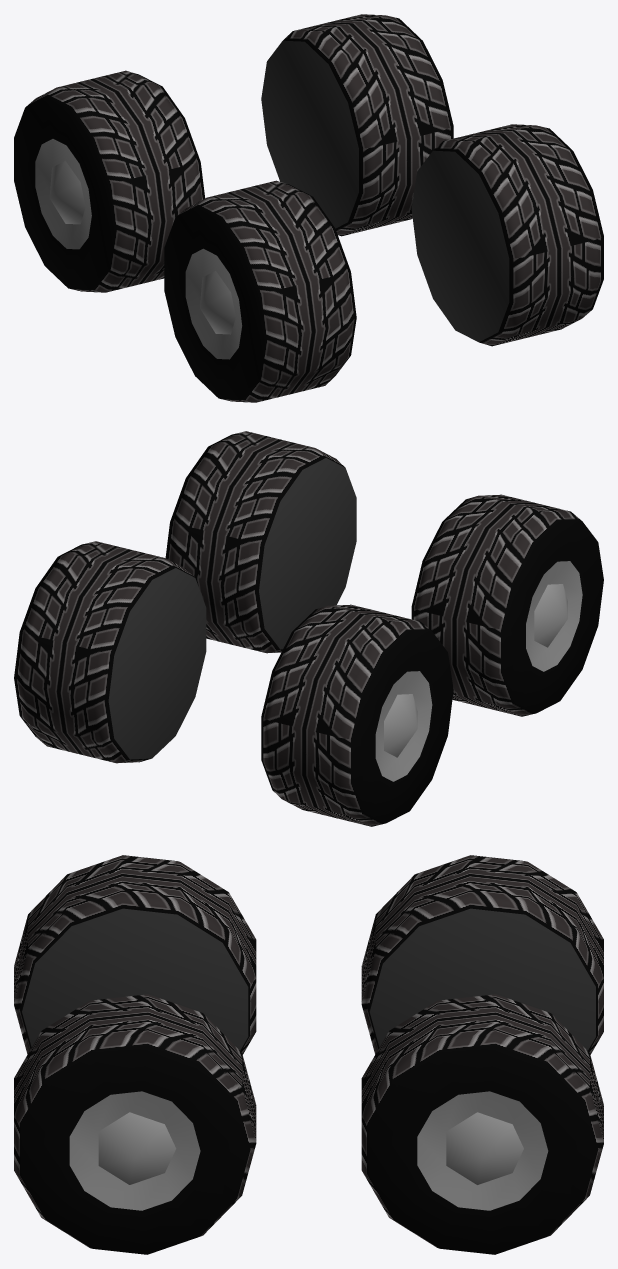
File: Wheels_mid_wide.fbx
3 views of the same model, one above another, from view 1: azimuth 30°, elevation 25°; view 2: azimuth 150°, elevation 25°; view 3: azimuth 270°, elevation 25° (orthographic). The views are drawn at different scales.
Visible parts, largest first — view 1: wheel_mid_wide_rightfront, wheel_mid_wide_leftfront, wheel_mid_wide_rightback, wheel_mid_wide_leftback; view 2: wheel_mid_wide_leftback, wheel_mid_wide_rightback, wheel_mid_wide_rightfront, wheel_mid_wide_leftfront; view 3: wheel_mid_wide_leftback, wheel_mid_wide_leftfront, wheel_mid_wide_rightfront, wheel_mid_wide_rightback.
Part boxes in pixels (x1,y1,x2,y2): wheel_mid_wide_rightfront: (164, 180, 356, 402); wheel_mid_wide_leftfront: (411, 124, 603, 346); wheel_mid_wide_rightback: (14, 70, 205, 292); wheel_mid_wide_leftback: (261, 14, 453, 236); wheel_mid_wide_leftback: (14, 541, 206, 763); wheel_mid_wide_rightback: (261, 604, 453, 826); wheel_mid_wide_rightfront: (411, 494, 603, 716); wheel_mid_wide_leftfront: (165, 431, 356, 653); wheel_mid_wide_leftback: (361, 994, 603, 1254); wheel_mid_wide_leftfront: (14, 994, 256, 1254); wheel_mid_wide_rightfront: (14, 855, 256, 1054); wheel_mid_wide_rightback: (361, 855, 603, 1054).
Size of the model in its own units: 170 by 84.21 by 204.
